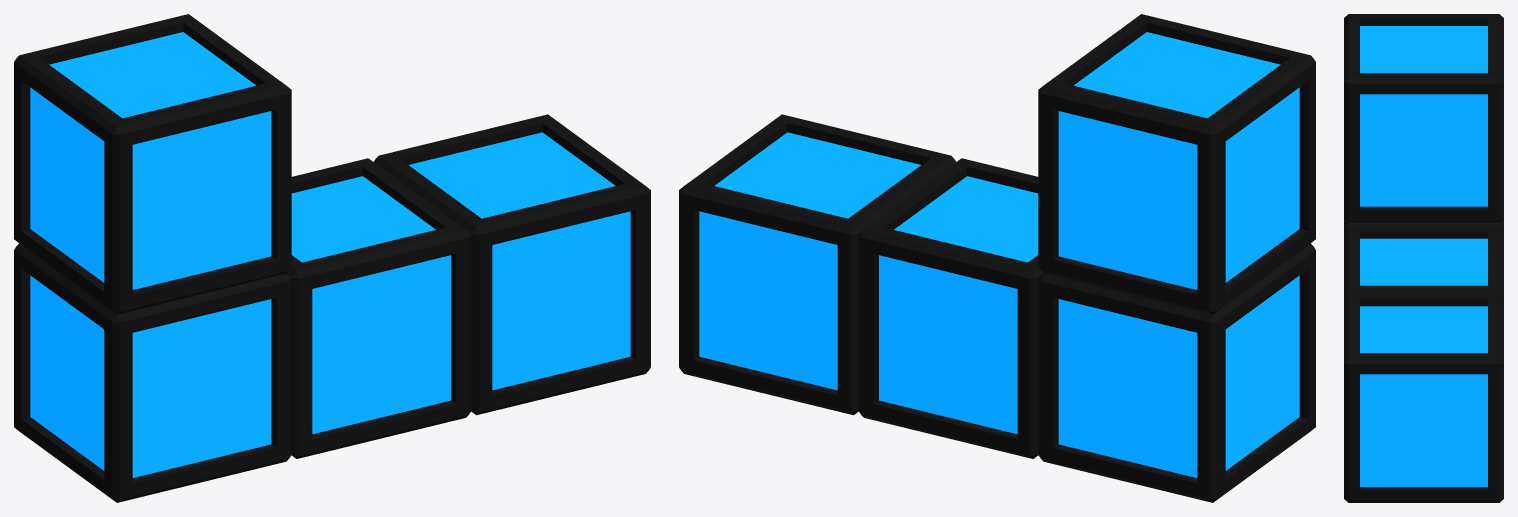
Rendered from LBlockSolid.fbx.
The picture shows the model from 3 angles, left to right: view 1: azimuth 30°, elevation 25°; view 2: azimuth 150°, elevation 25°; view 3: azimuth 270°, elevation 25°; orthographic projection. The views are drawn at different scales.
Parts seen in each view (by area): view 1: LBlock; view 2: LBlock; view 3: LBlock.
Boxes of the visible parts, <box> form: LBlock: <box>14,14,650,502</box>; LBlock: <box>679,14,1315,502</box>; LBlock: <box>1344,14,1503,502</box>.
Size of the model in its own units: 600 by 200 by 400.
